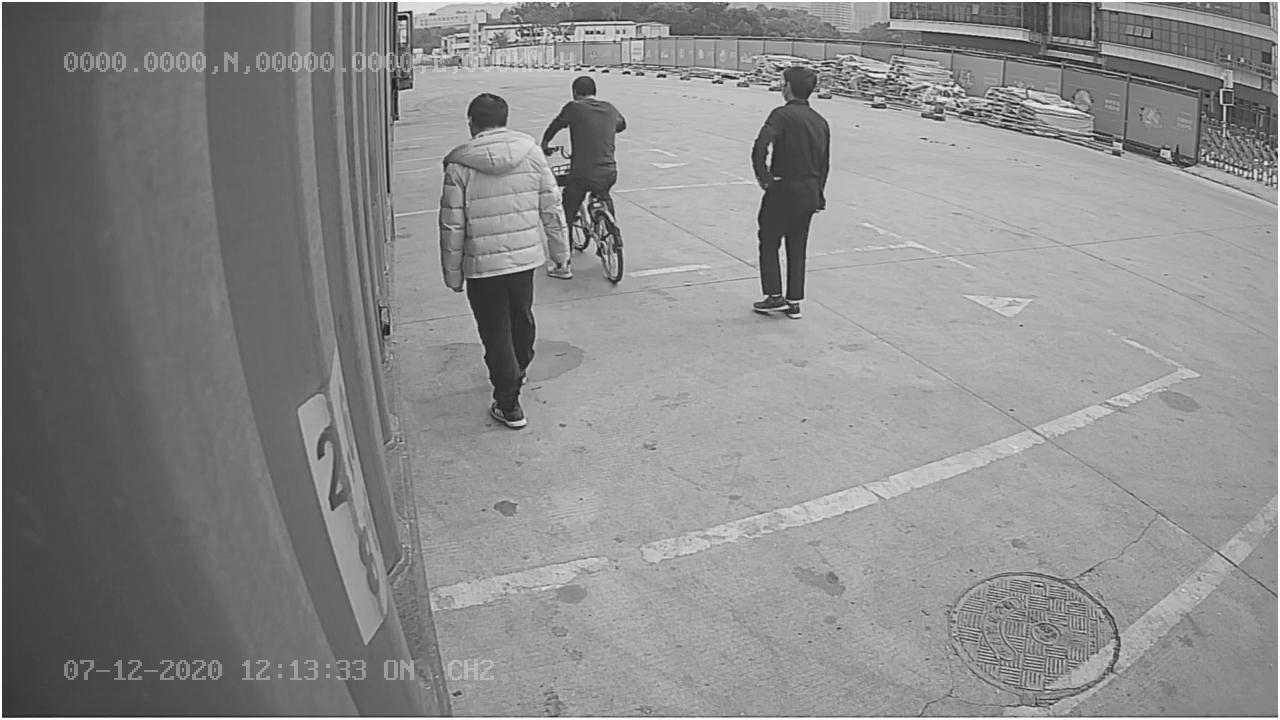person: (746, 62, 837, 325)
